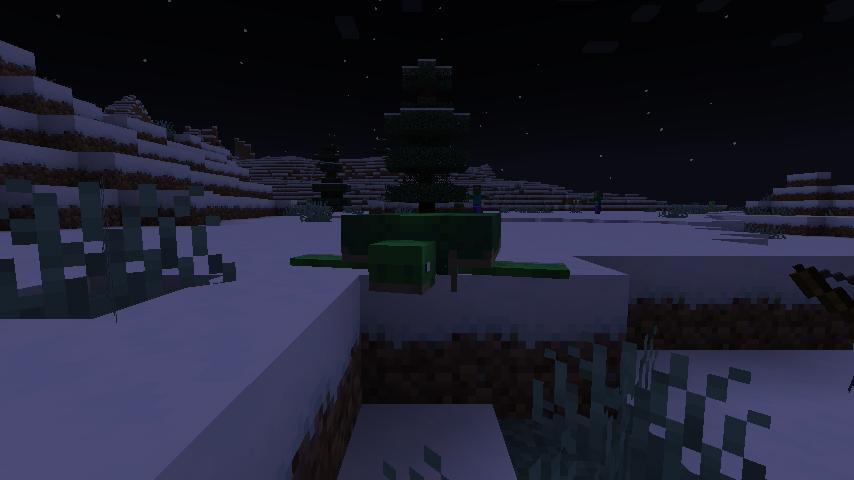turtle: (291, 208, 574, 298)
zombie: (466, 184, 489, 212), (589, 188, 607, 214)
